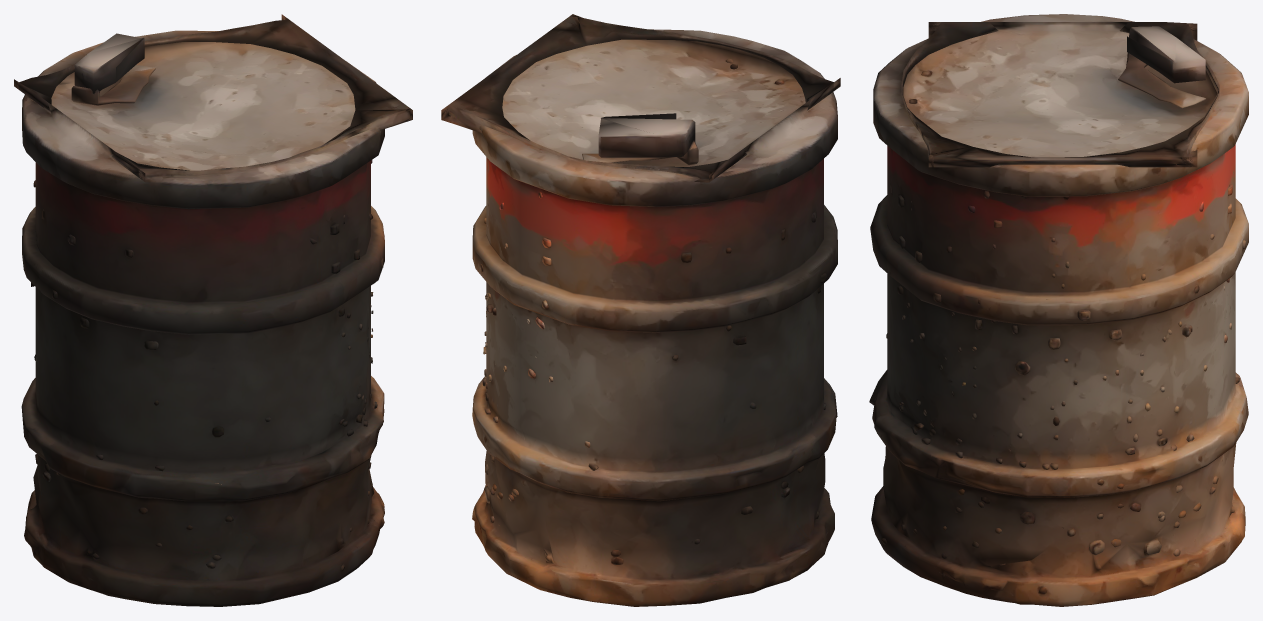
Rendered from barrel.glb.
The picture shows the model from 3 angles, left to right: view 1: azimuth 30°, elevation 25°; view 2: azimuth 150°, elevation 25°; view 3: azimuth 270°, elevation 25°; orthographic projection. The views are drawn at different scales.
Parts seen in each view (by area): view 1: tripo_node_6db40028-4b17-49ca-9838-4e6f63918eb5; view 2: tripo_node_6db40028-4b17-49ca-9838-4e6f63918eb5; view 3: tripo_node_6db40028-4b17-49ca-9838-4e6f63918eb5.
Boxes of the visible parts, x1,y1,x2,y2 form: tripo_node_6db40028-4b17-49ca-9838-4e6f63918eb5: [14, 14, 412, 606]; tripo_node_6db40028-4b17-49ca-9838-4e6f63918eb5: [441, 14, 840, 606]; tripo_node_6db40028-4b17-49ca-9838-4e6f63918eb5: [869, 14, 1248, 606].
Bounding box in the file's own units: 0.4403 × 0.6 × 0.4427.
Materials: 1 (1 with a texture image).
